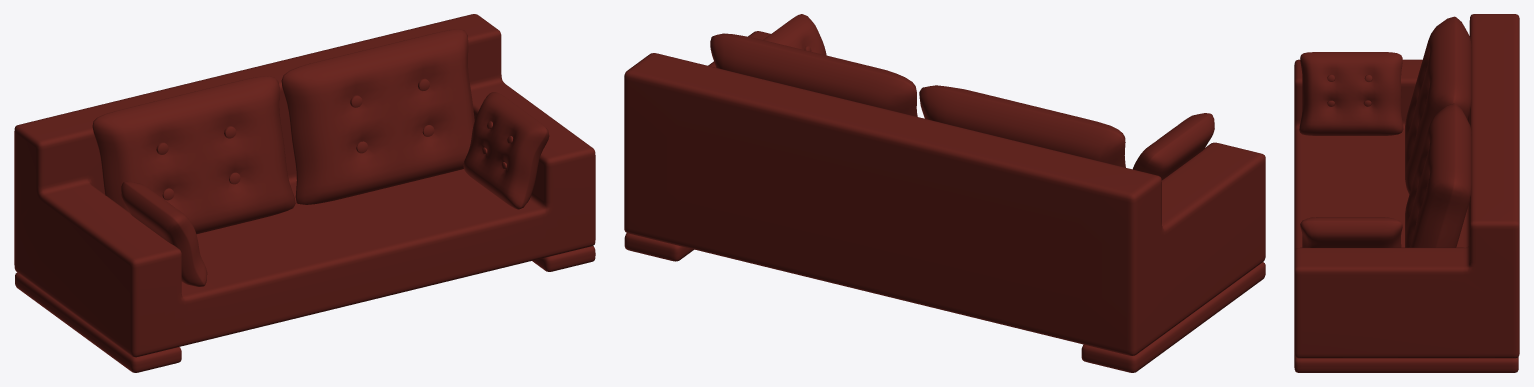
File: sofa_red.gltf
3 views of the same model, side by side, from view 1: azimuth 30°, elevation 25°; view 2: azimuth 150°, elevation 25°; view 3: azimuth 270°, elevation 25° (orthographic). The views are drawn at different scales.
Visible parts, largest first — view 1: Sofa2; view 2: Sofa2; view 3: Sofa2.
Boxes of the visible parts, x1,y1,x2,y2 form: Sofa2: (14,14,595,372); Sofa2: (624,14,1265,372); Sofa2: (1294,14,1519,372).
Bounding box in the file's own units: 1.01 × 0.3821 × 0.4541.
